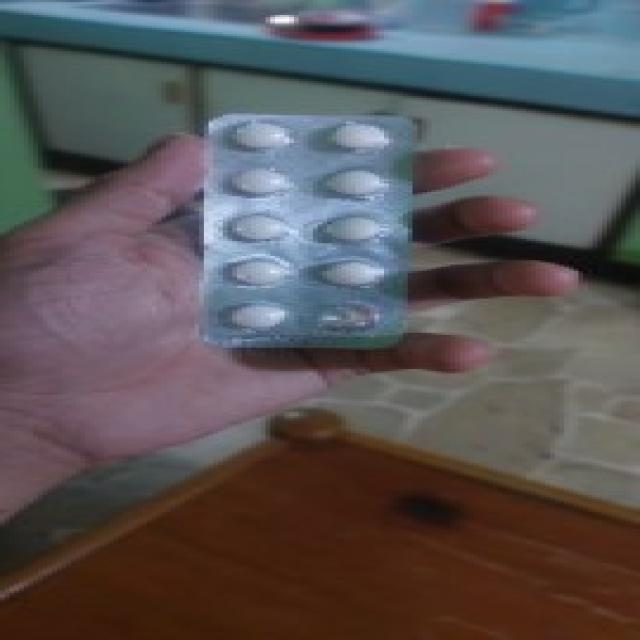Cacat: (201, 112, 408, 350)
Kemasan: (308, 301, 388, 338)
